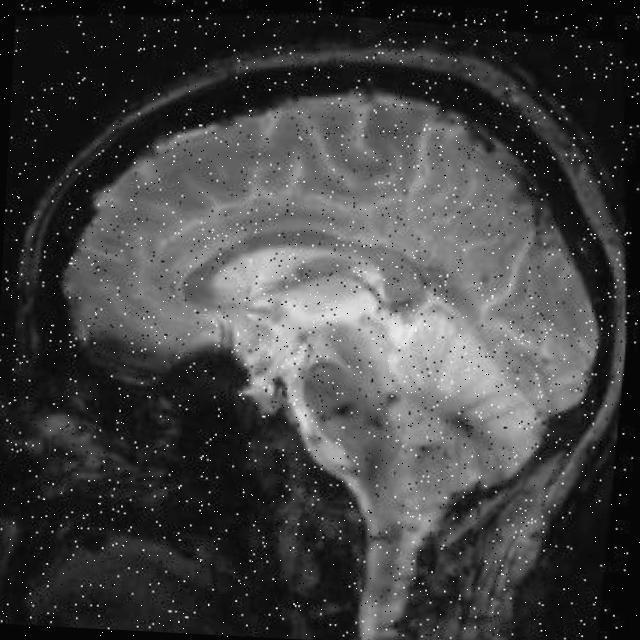EMCI: (452, 108, 544, 174), (500, 162, 567, 248)
